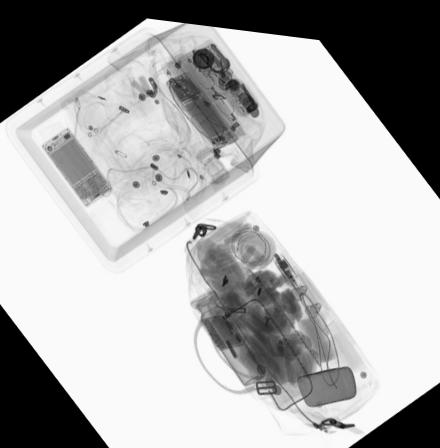Lighter: (272, 247, 306, 288)
